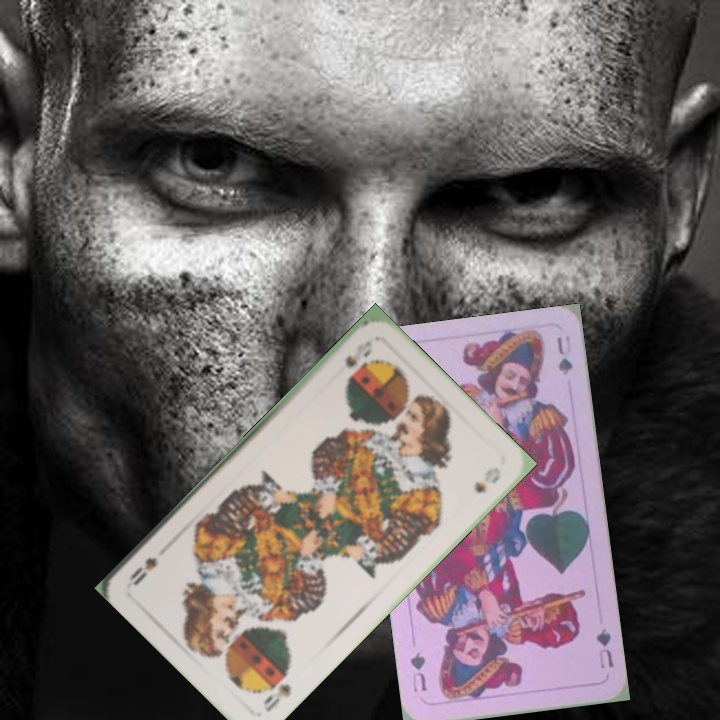GU: (592, 623, 617, 671)
SO: (259, 668, 294, 715), (341, 336, 376, 371)
